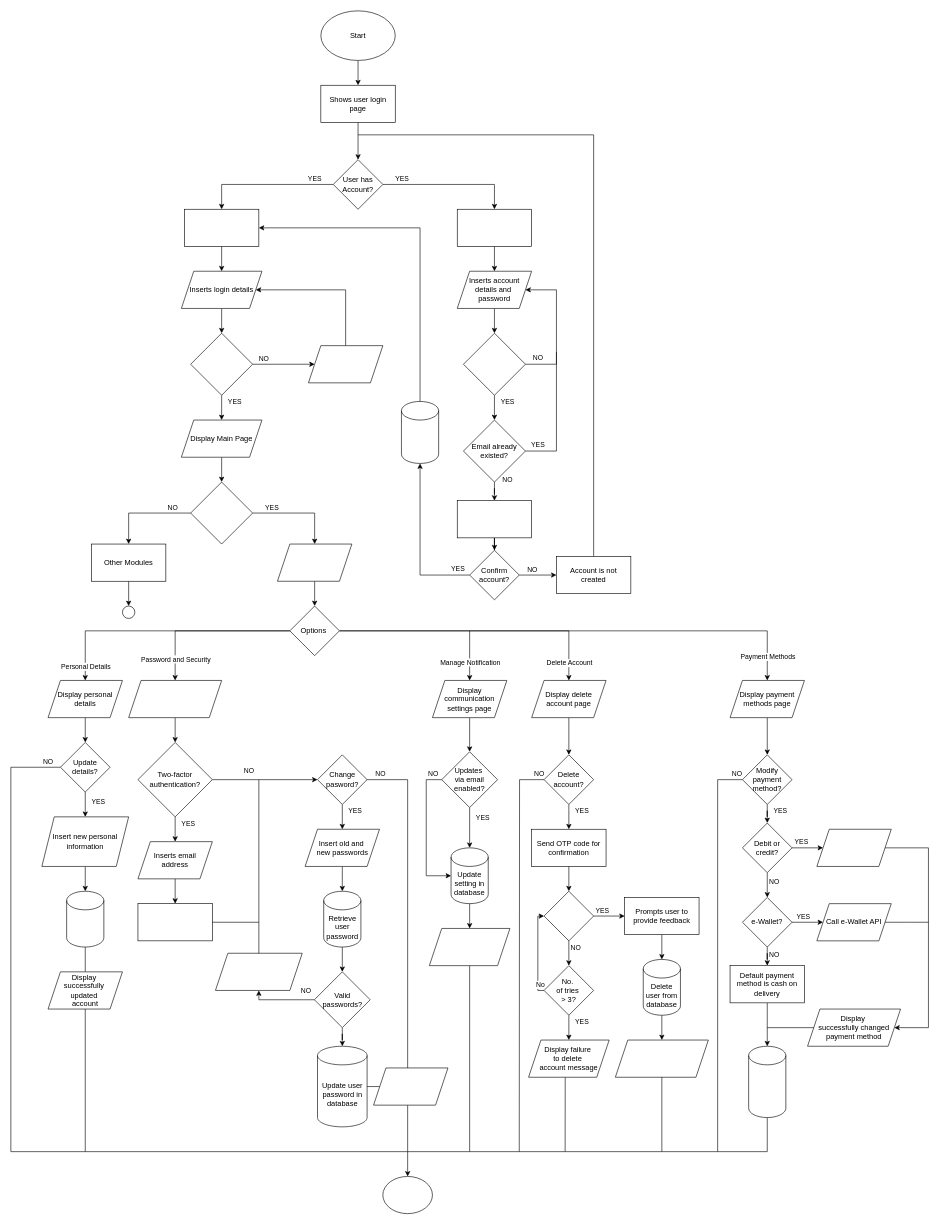
Image size: 944x1225. Some labels were removed from this diagram. The centre of each missing label's shape, as x and y in pixels:
Correct login details?: point (221, 364)
Display account dashboard: point (314, 562)
Display login fail message: point (345, 364)
Display password and security page: point (175, 699)
Display succesfully deleted account message: point (661, 1058)
Display succesfully updated setting message: point (469, 947)
Display successfully updated password: point (410, 1086)
Display wrong password message: point (258, 971)
END: point (407, 1195)
Insert Card Information: point (853, 847)
Insert user into database: point (420, 432)
Prompts user login: point (221, 227)
Send an email to the email address: point (494, 519)
Sends email to user for confirmation: point (174, 922)
Shows user registration page: point (494, 227)
Update payment method in database: point (767, 1082)
Update user in database: point (85, 919)
Valid account details?: point (494, 364)
Valid OTP code?: point (568, 916)
View account dashboard?: point (221, 512)
